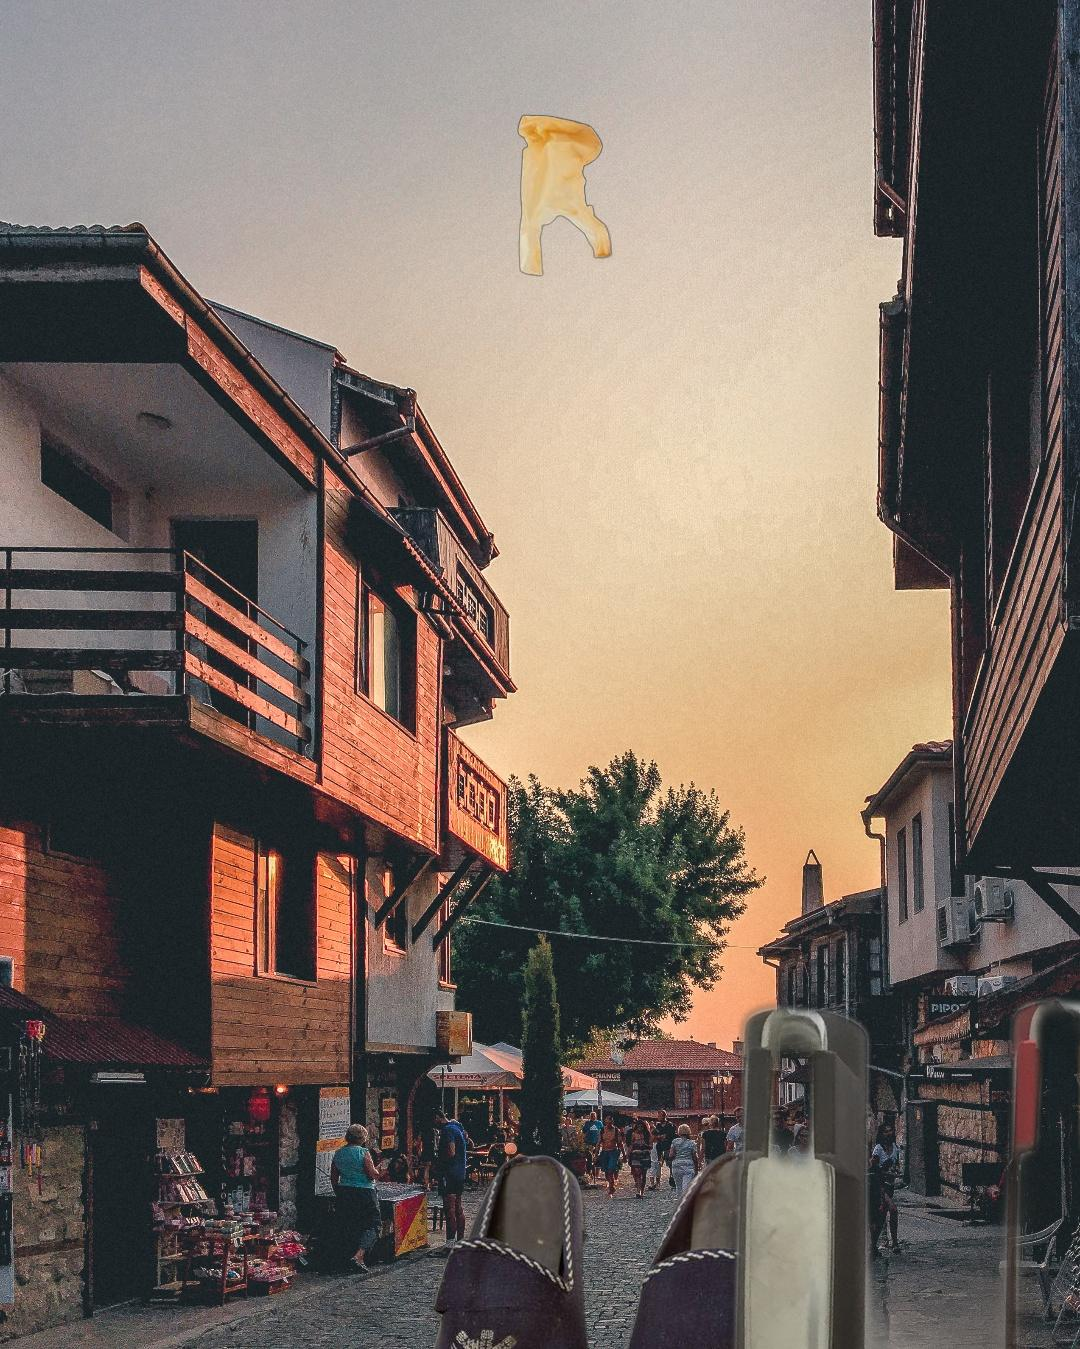penholder: (640, 980, 1080, 1349)
plastic-bag: (515, 112, 614, 279)
shoes: (423, 1145, 818, 1349)
